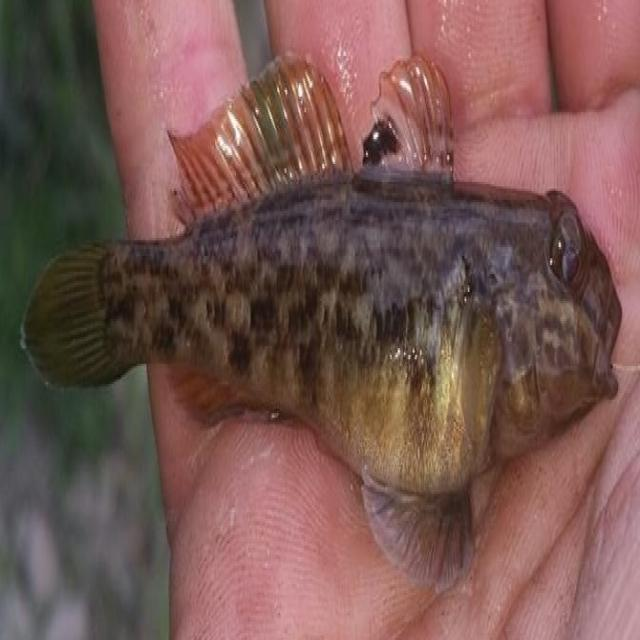Goby: (3, 34, 640, 577)
